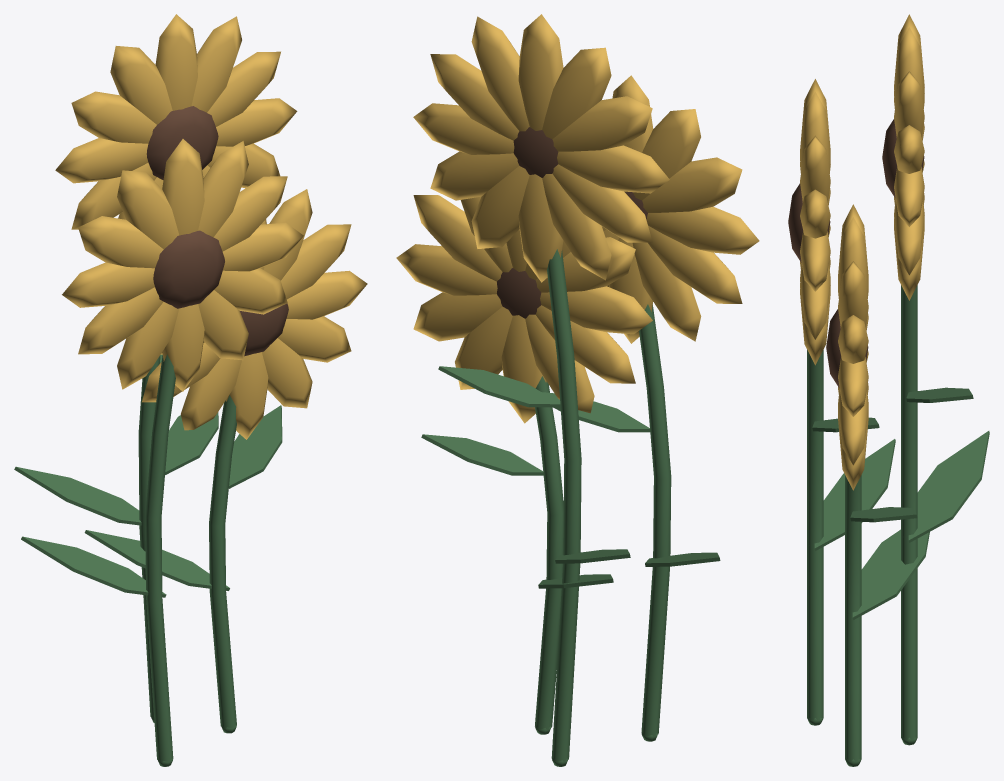
The model's file is almanac-gardens-sunflower-stand-6854915d__22044.glb.
3 renders of one model, left to right at view 1: azimuth 30°, elevation 25°; view 2: azimuth 150°, elevation 25°; view 3: azimuth 270°, elevation 25°, orthographic. The views are drawn at different scales.
Parts seen in each view (by area): view 1: sunflower-stand-gold, sunflower-stand-leaf, sunflower-stand-bark; view 2: sunflower-stand-gold, sunflower-stand-leaf, sunflower-stand-bark; view 3: sunflower-stand-leaf, sunflower-stand-gold, sunflower-stand-bark.
Part boxes in pixels (x1,y1,x2,y2): sunflower-stand-gold: (55, 14, 367, 439); sunflower-stand-leaf: (14, 354, 282, 766); sunflower-stand-bark: (146, 106, 288, 356); sunflower-stand-gold: (396, 14, 759, 423); sunflower-stand-leaf: (421, 249, 720, 766); sunflower-stand-bark: (497, 127, 647, 318); sunflower-stand-leaf: (807, 285, 989, 766); sunflower-stand-gold: (800, 14, 924, 490); sunflower-stand-bark: (788, 119, 924, 388).
Bounding box in the file's own units: 0.8284 × 1.71 × 0.4303.
